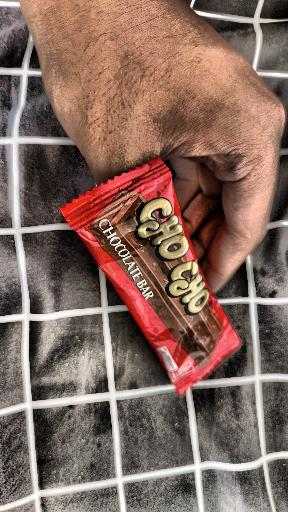chocho: (61, 150, 259, 403)
